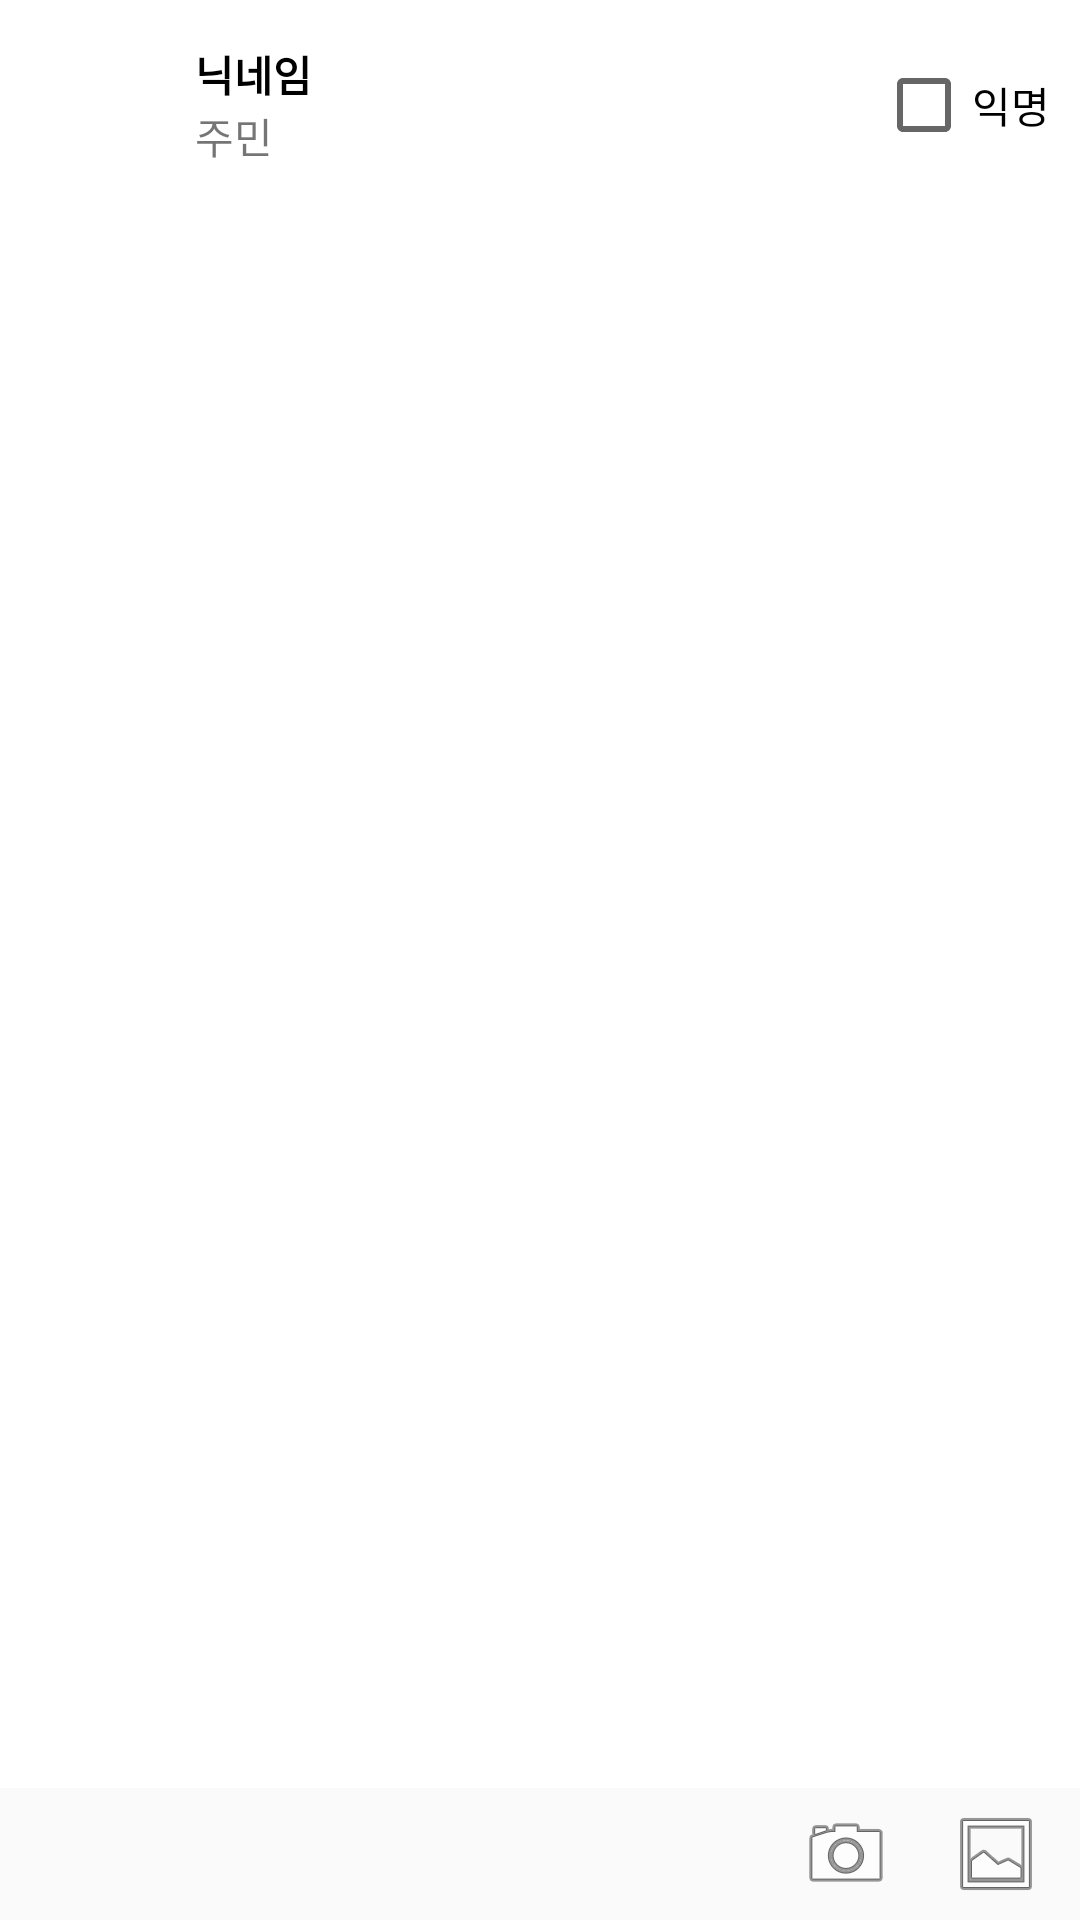

Point at icon controls on the screen. Image size 1080*1920, points as [x,y].
camera: [846,1852]
gallery: [996,1854]
